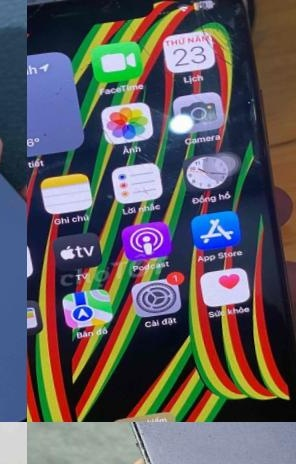physical_damage: (27, 0, 267, 221)
scratch: (202, 427, 219, 443)
